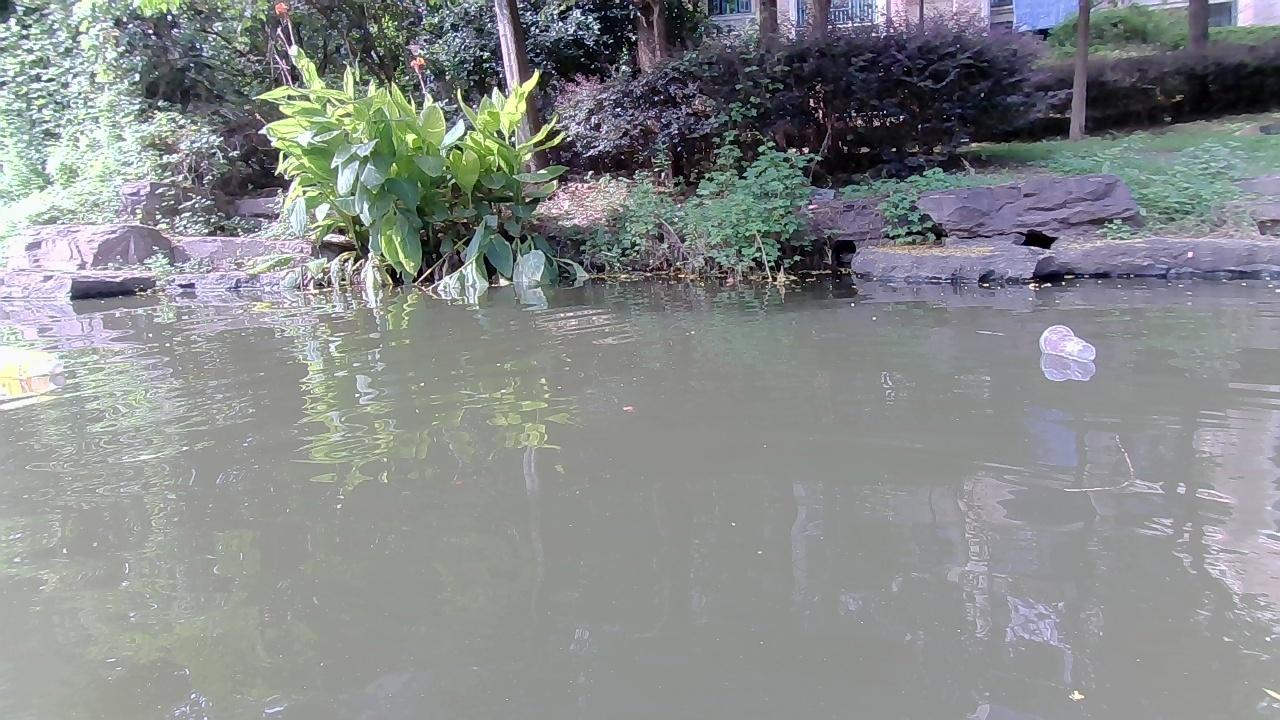bottle: (1039, 325, 1096, 362)
